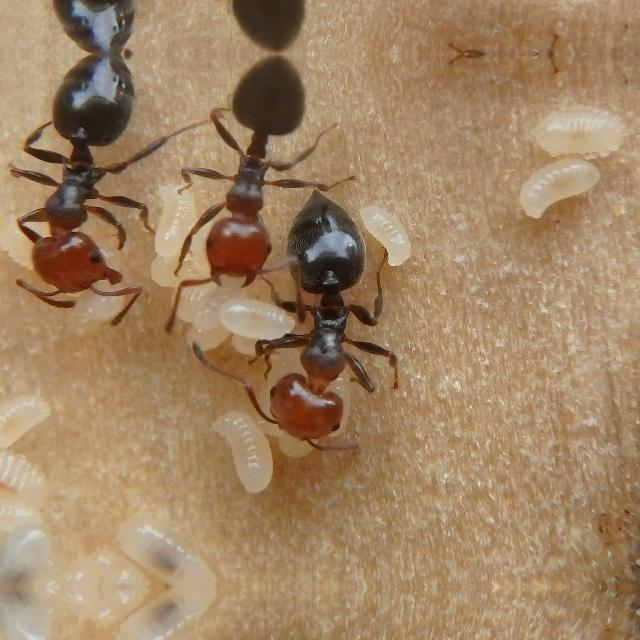Crematogaster: (250, 178, 410, 446), (9, 62, 173, 298), (192, 53, 328, 304), (192, 0, 327, 52)
